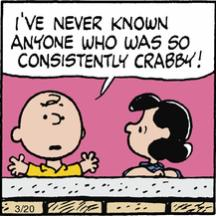charlie: (7, 88, 100, 177)
